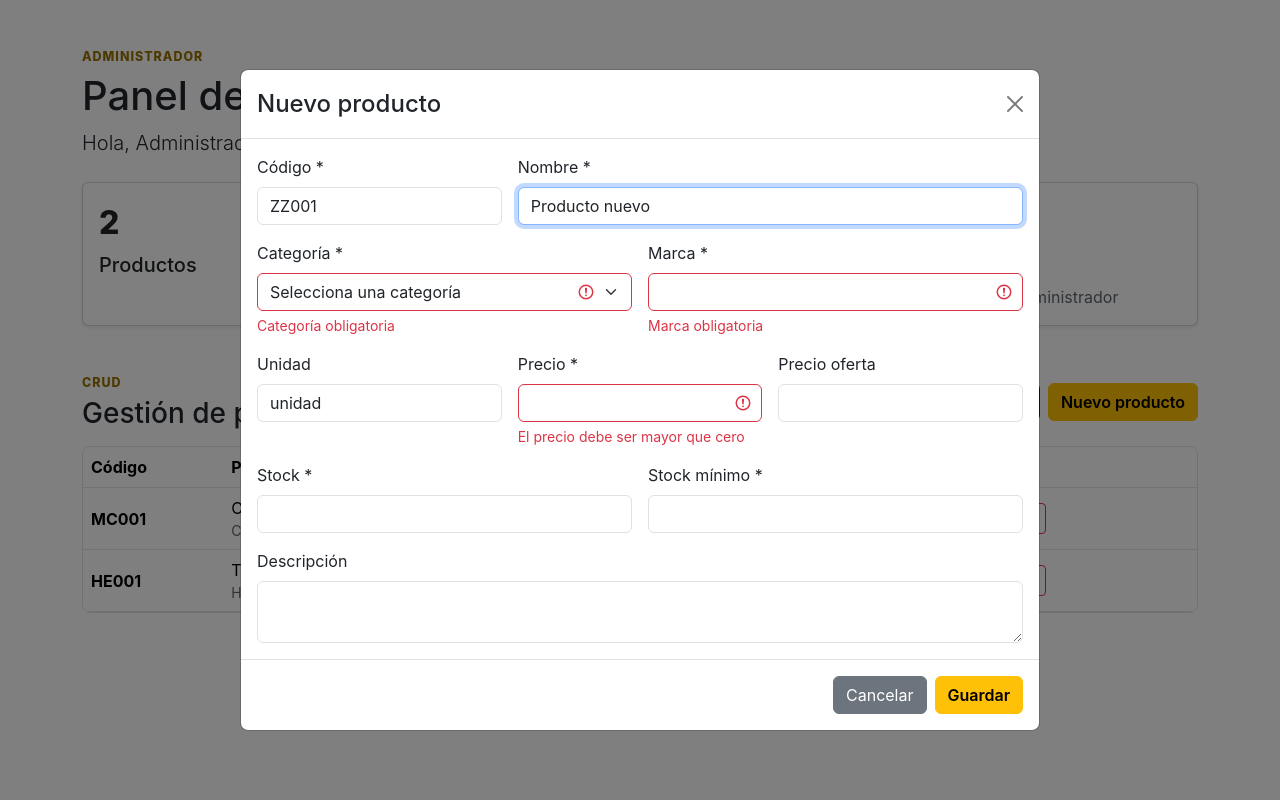
Integrante 3 - PanelAdmin › 27. valida el formulario y crea un producto solo cuando los datos son correctos
Earlier steps of the test are not shown.
Select "Herramientas" in the dropdown named "categoriaId" at (444, 292), box x1=257 y1=273 x2=632 y2=311
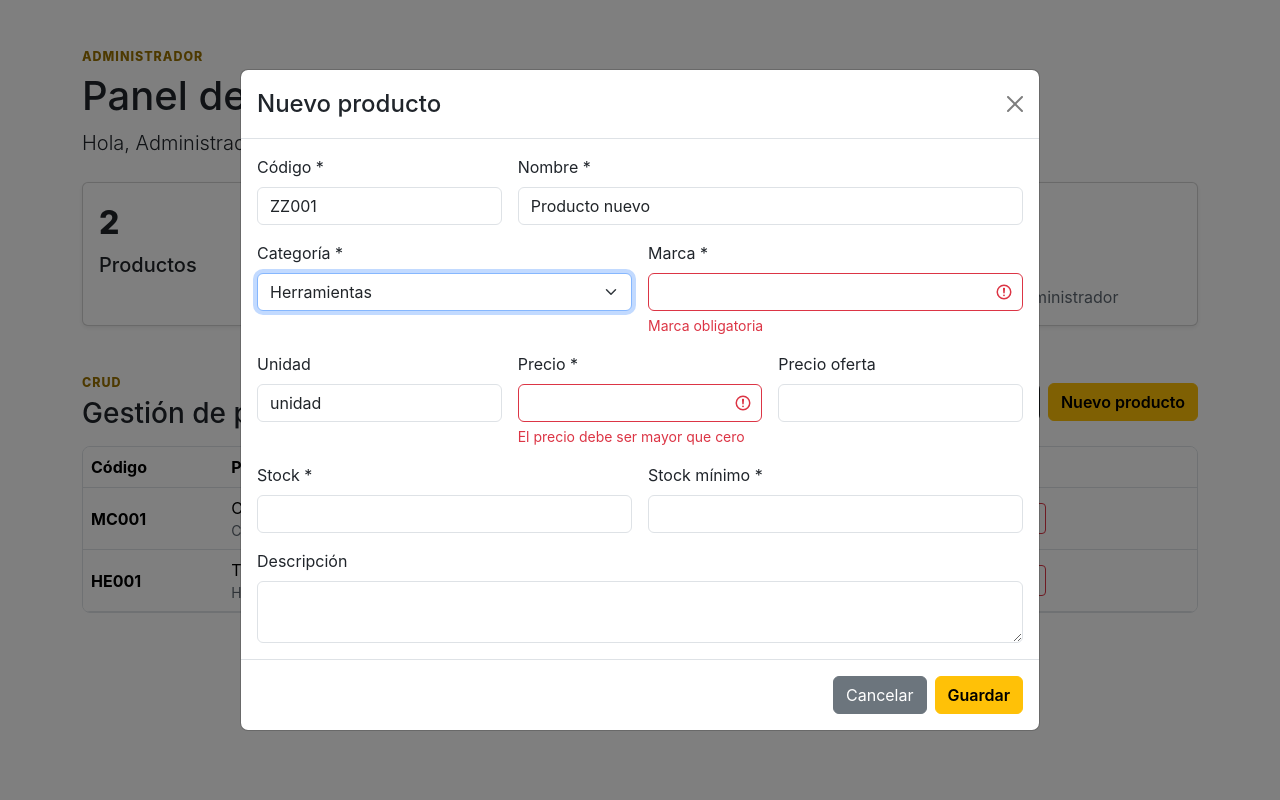
Type "Marca Test" into the field named "marca" at (836, 292), box x1=648 y1=273 x2=1023 y2=311
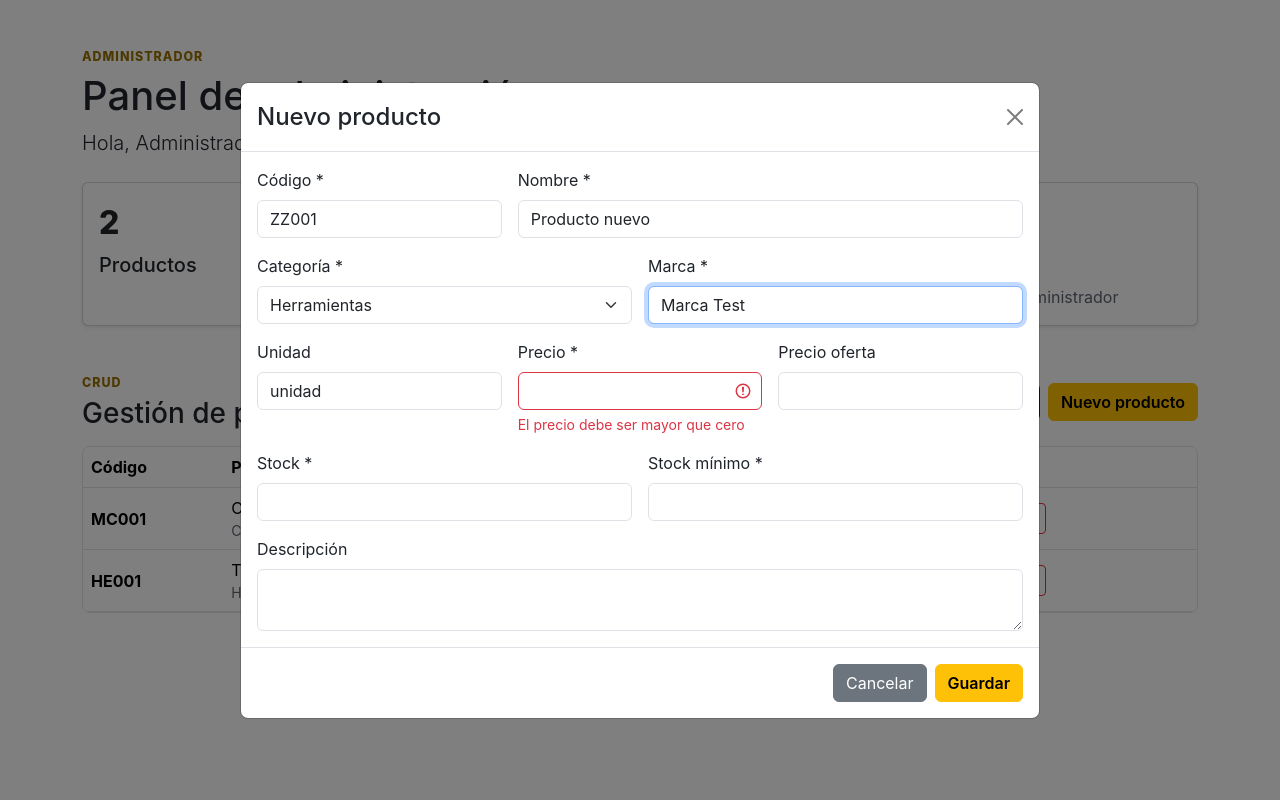
Type "12990" into the number field named "precio" at (640, 390), box x1=518 y1=372 x2=762 y2=410
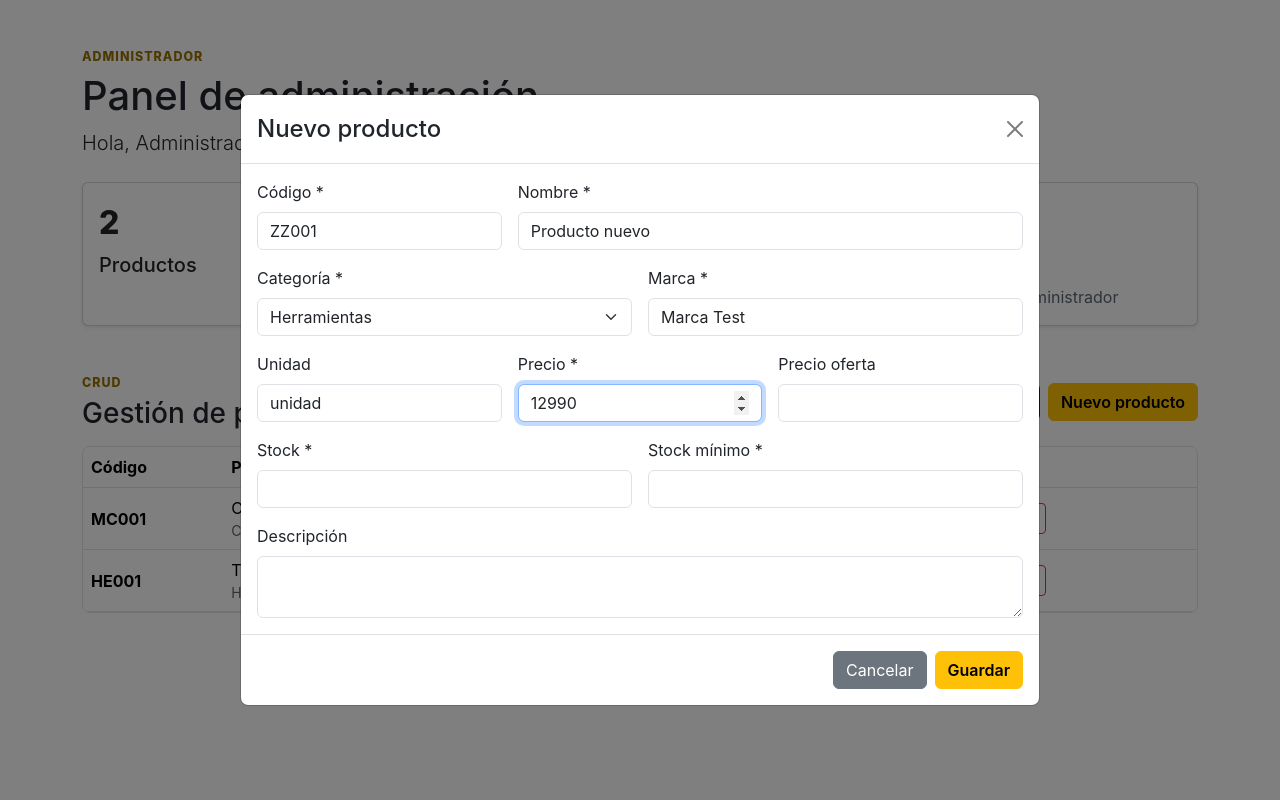
Type "10" into the number field named "stock" at (444, 489), box x1=257 y1=470 x2=632 y2=508
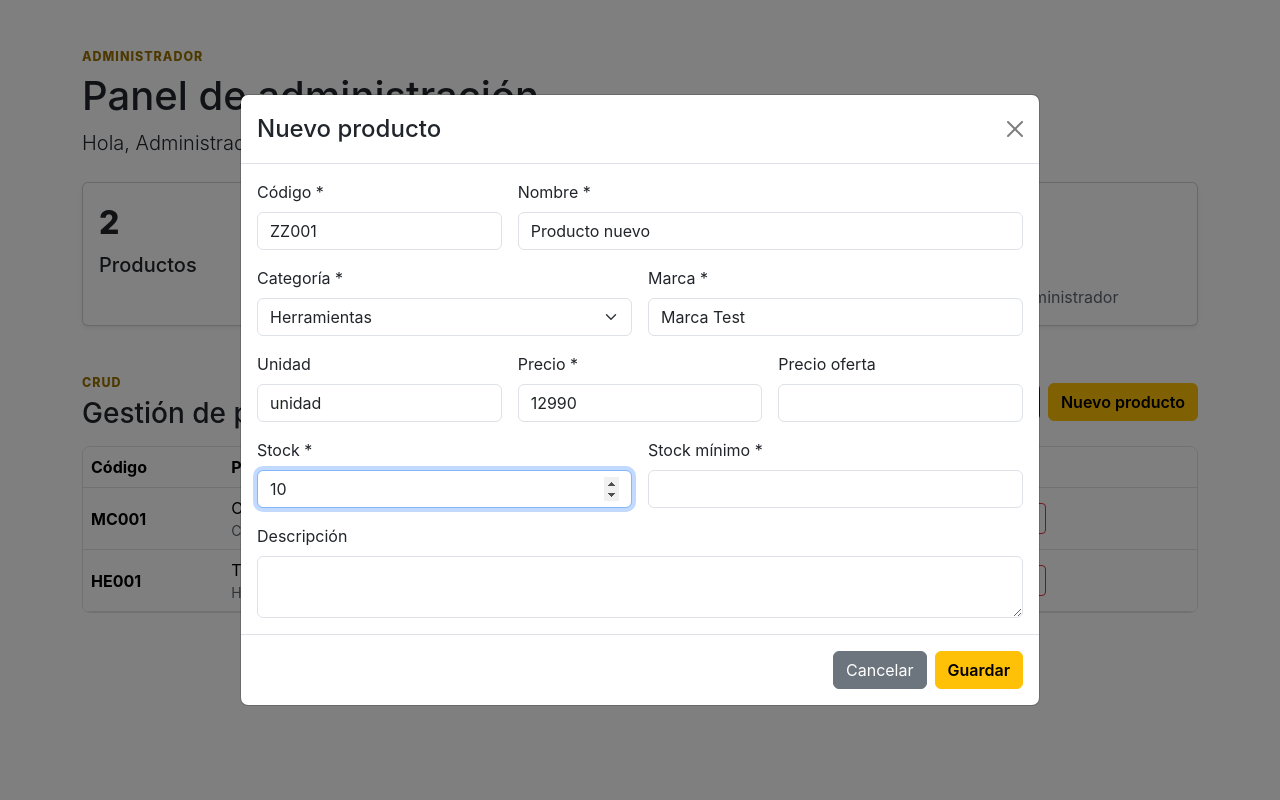
Type "2" into the number field named "stockMinimo" at (836, 489), box x1=648 y1=470 x2=1023 y2=508
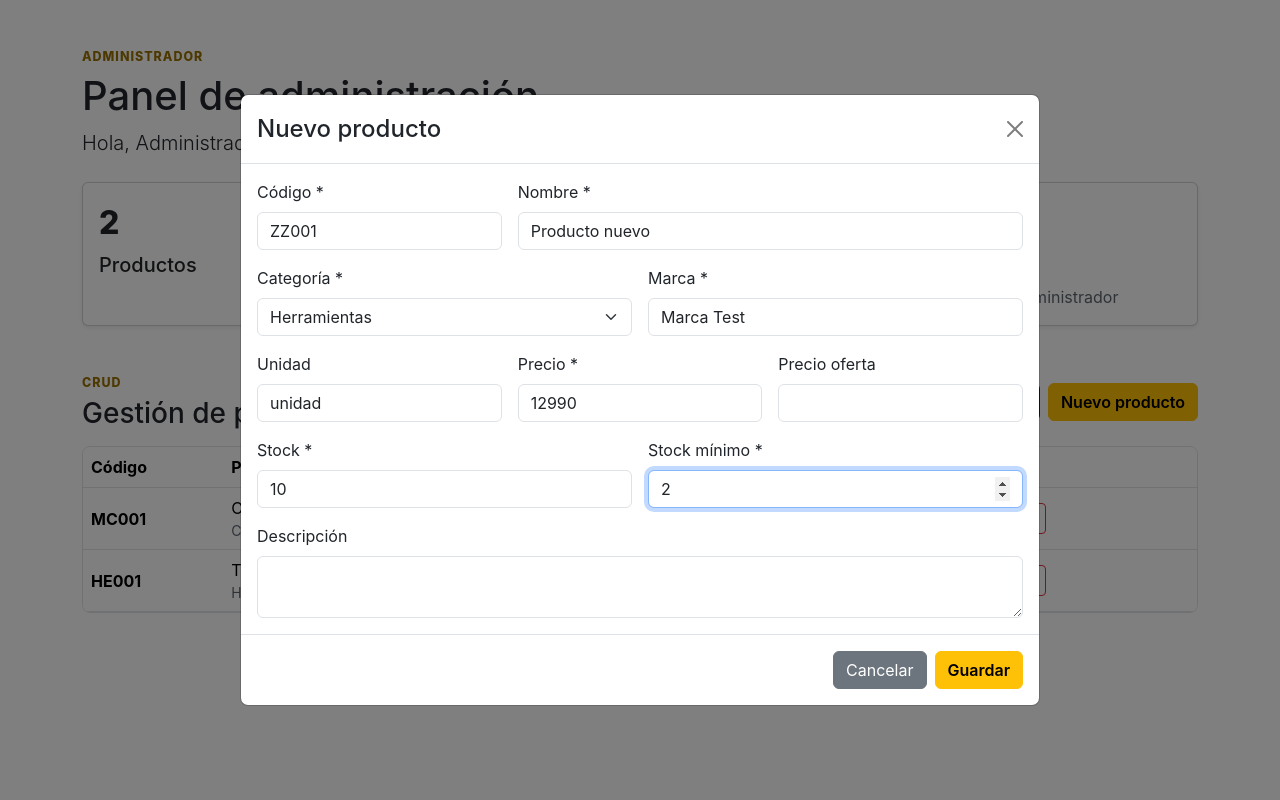
Click the button "Guardar" at (979, 670), box x1=934 y1=651 x2=1023 y2=689
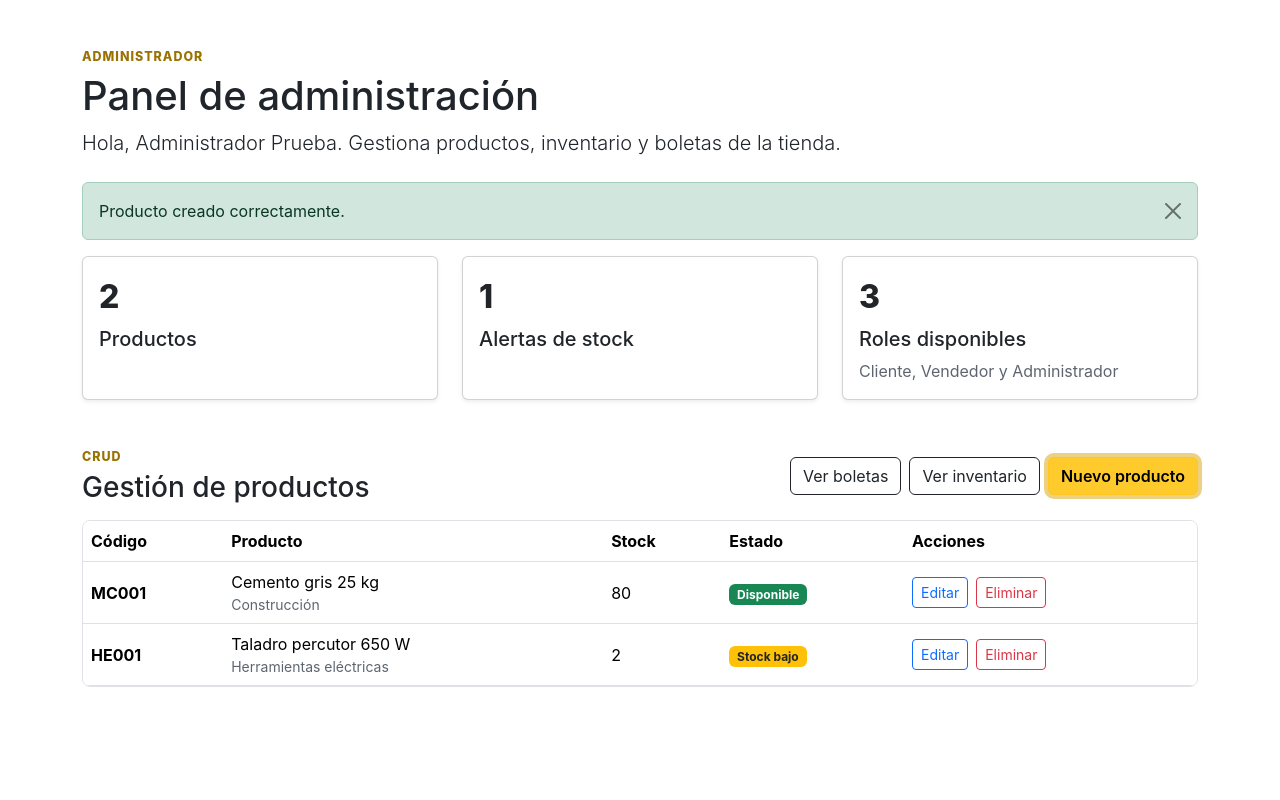
Now the text "Producto creado correctamente." is shown, box x1=82 y1=182 x2=1198 y2=240
